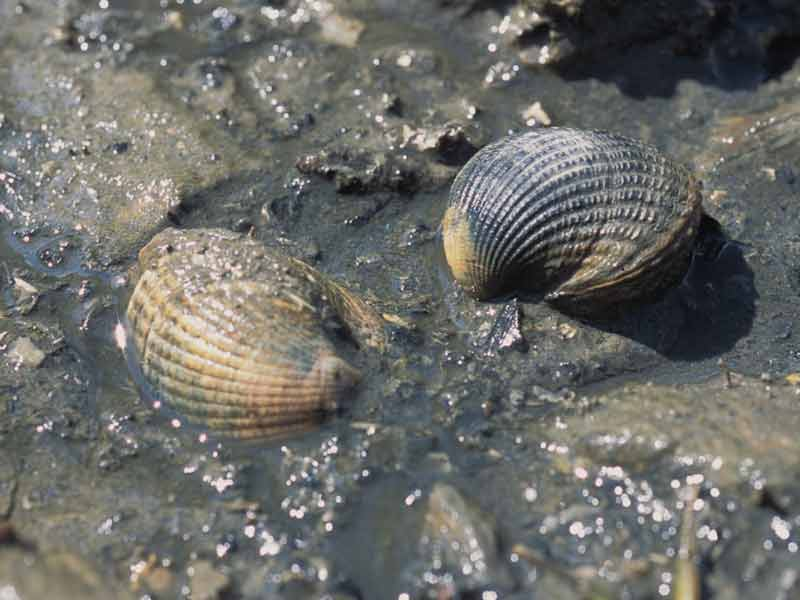cockle: (112, 218, 396, 439), (440, 123, 712, 312)
